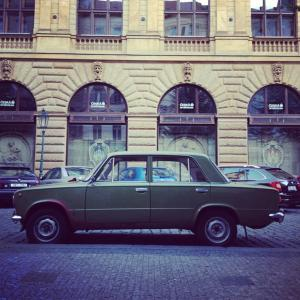Vehicle-registration-plate: (289, 186, 299, 193), (12, 185, 29, 189)
